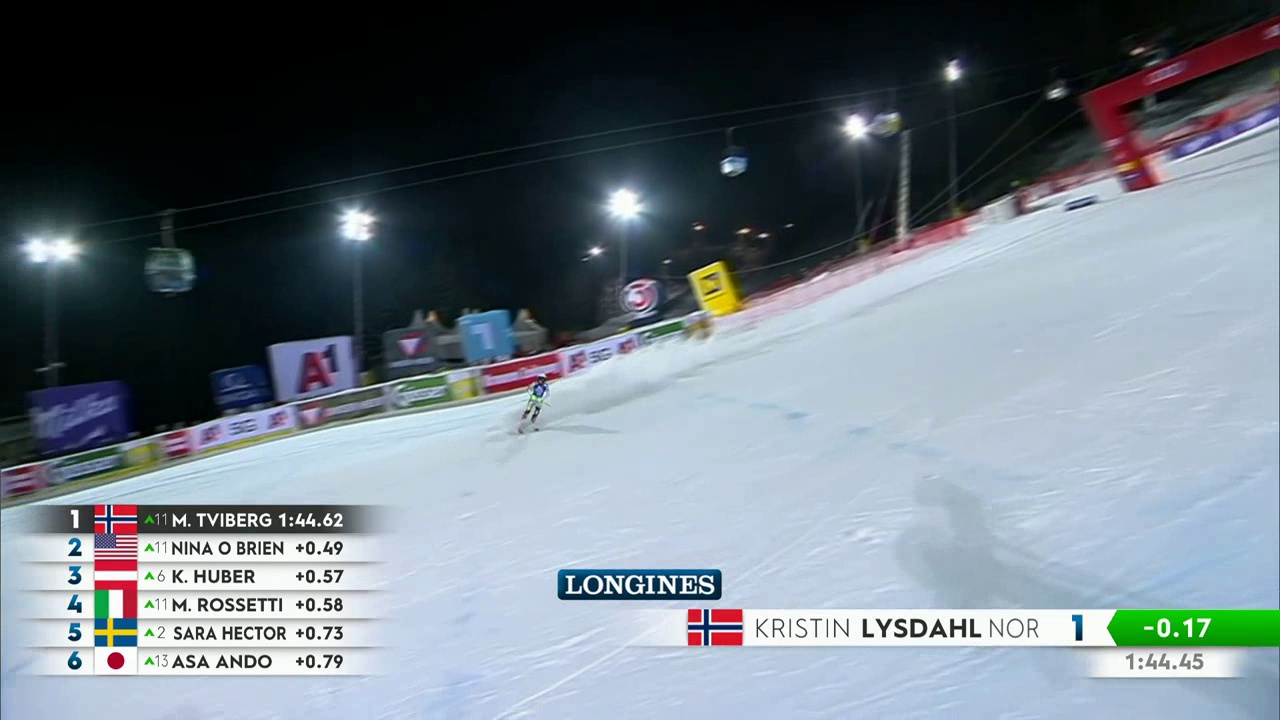a1: (293, 342, 350, 399)
longines: (544, 567, 730, 604)
unserheer: (385, 330, 439, 369)
